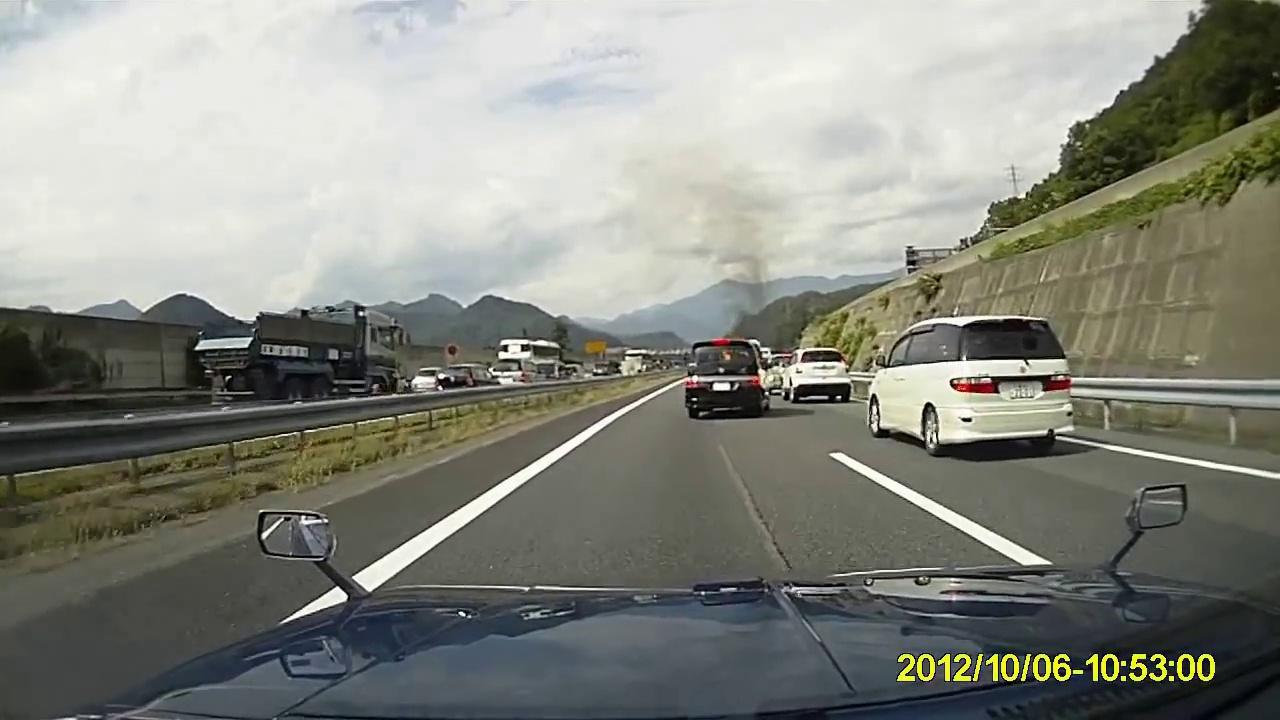smoke: (712, 190, 774, 264)
